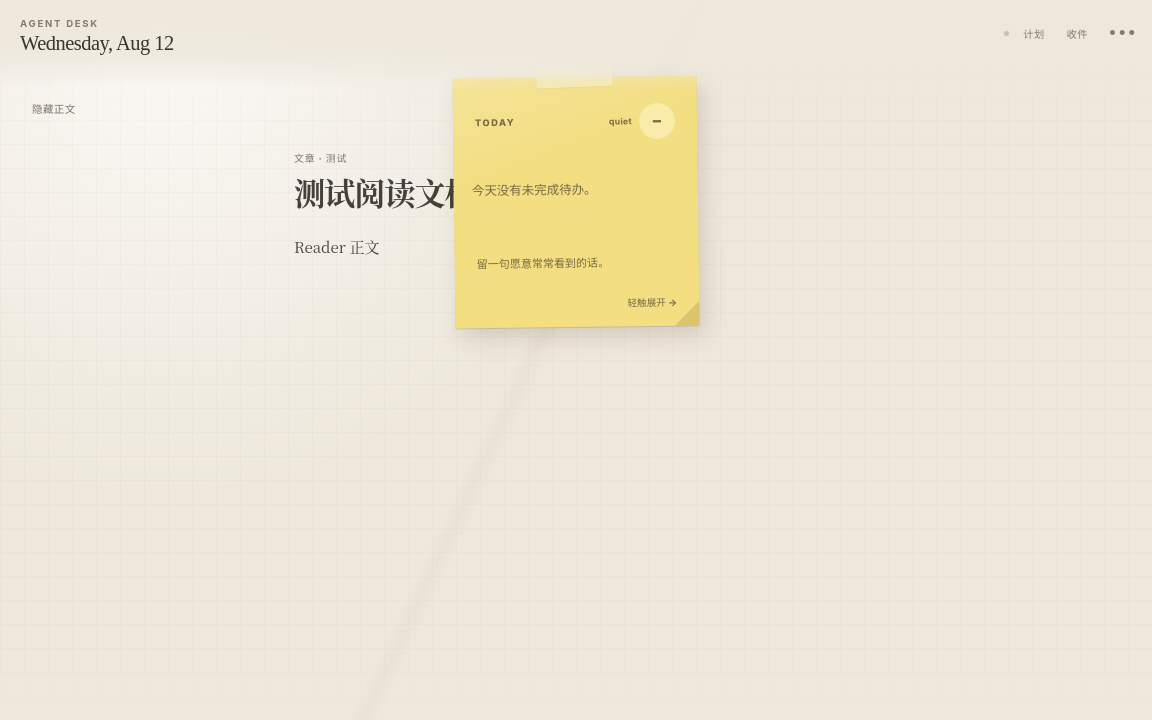
Test: StickyHome M1-B4 › distinguishes a sub-threshold click from Compact drag
Press the mouse on the button with aria-label "展开或拖动便利贴" at (576,202), box [454,77,698,327]
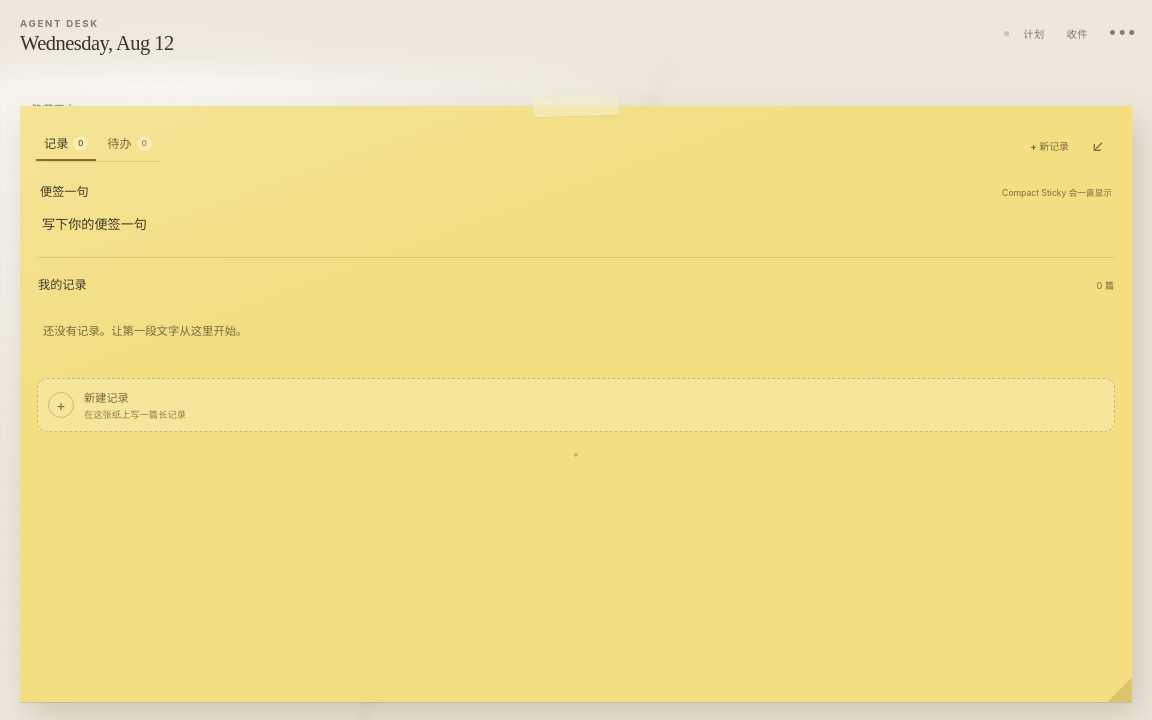
Expected: the element named "展开的便利贴" is shown
